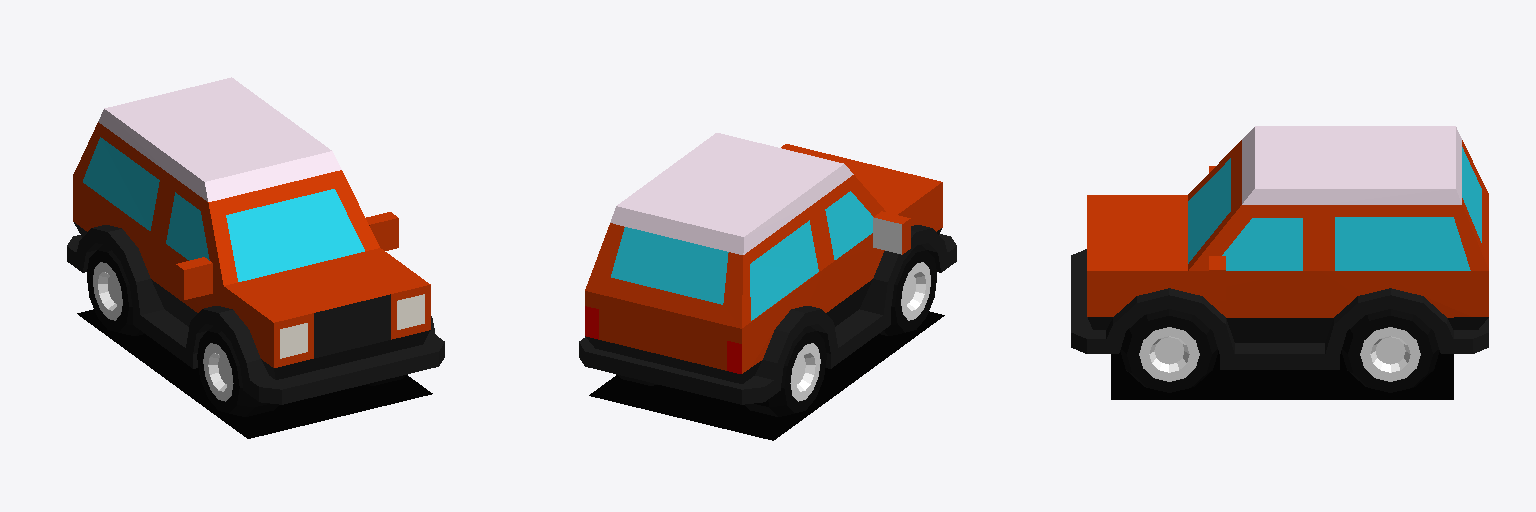
Rendered from car.obj.
3 views of the same model, side by side, from view 1: azimuth 30°, elevation 25°; view 2: azimuth 150°, elevation 25°; view 3: azimuth 270°, elevation 25° (orthographic).
Parts seen in each view (by area): view 1: Plane; view 2: Plane; view 3: Plane.
Boxes of the visible parts, x1=… form: Plane: x1=67, y1=77, x2=444, y2=438; Plane: x1=579, y1=133, x2=956, y2=440; Plane: x1=1071, y1=126, x2=1488, y2=399.
Size of the model in its own units: 1.11 by 0.975 by 1.88.